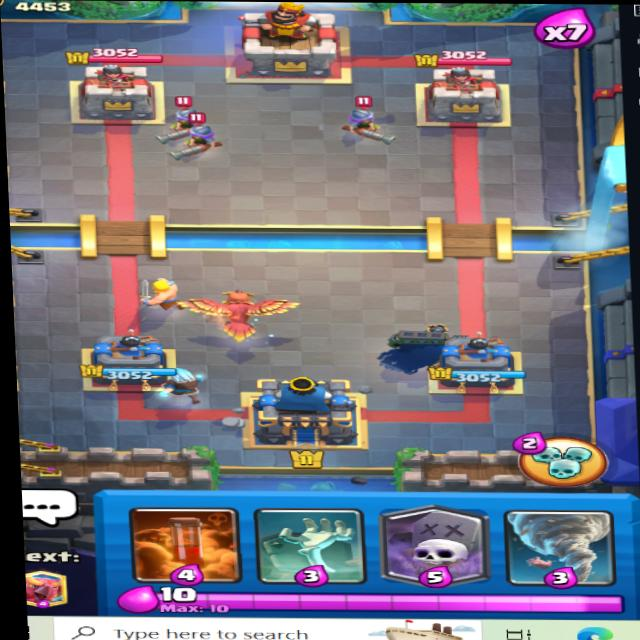musketeer: (339, 96, 402, 144), (156, 102, 222, 145), (172, 110, 227, 157)
